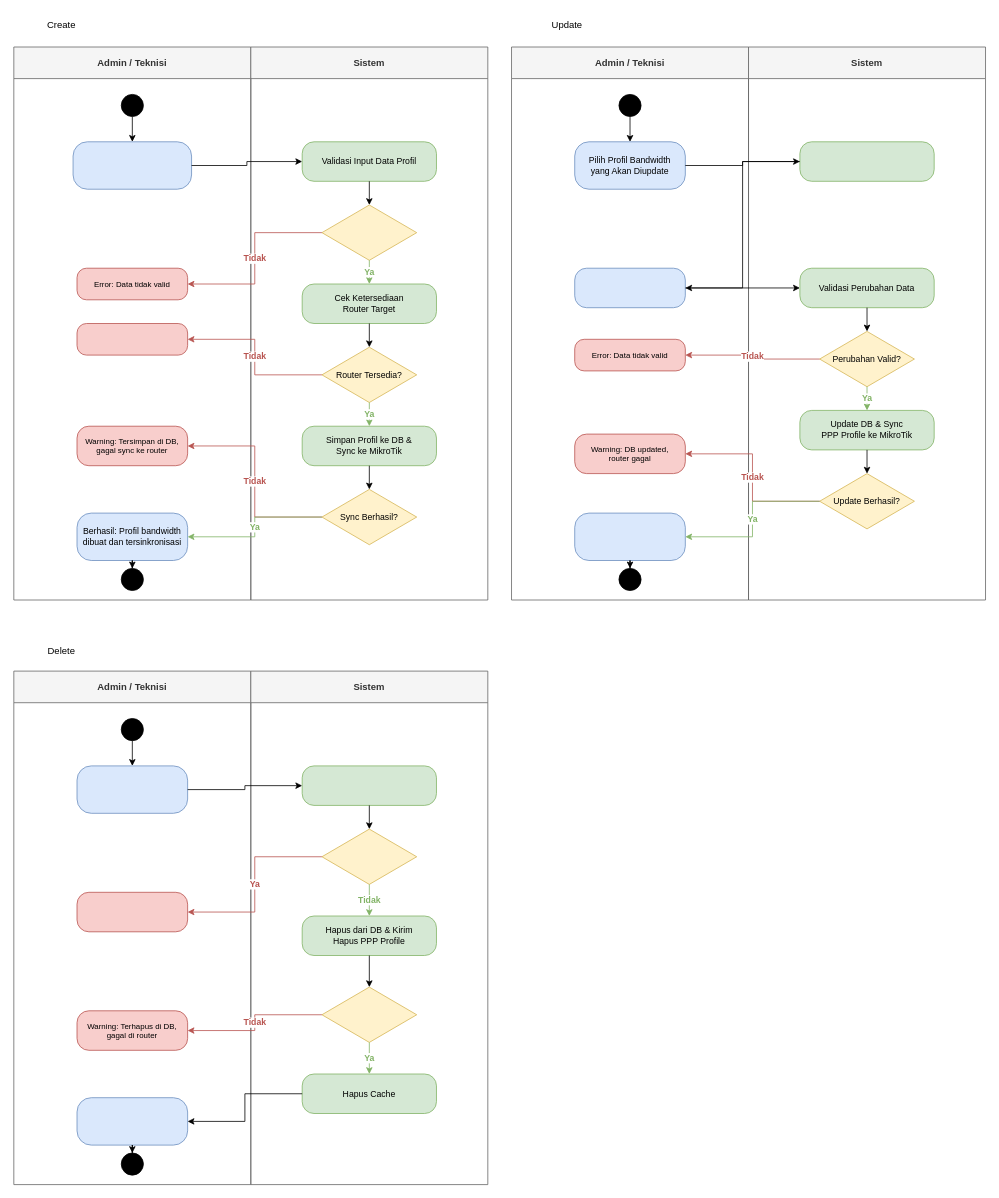
This 999x1198 diagram has some shape labels left out. The shapes that lost their labels are listed below. From the top down, each one's centre as x and y in pixels, then its label:
At (x=132, y=165): "Input Data Profil Bandwidth (Nama, Upload, Download, Harga)".
At (x=866, y=161): "Ambil Data Profil dari DB".
At (x=369, y=232): "Data Valid?".
At (x=629, y=287): "Edit Parameter Bandwidth".
At (x=132, y=339): "Error: Router tidak ditemukan".
At (x=629, y=536): "Berhasil: Profil bandwidth diupdate".
At (x=132, y=789): "Pilih Profil Bandwidth untuk Dihapus".
At (x=368, y=785): "Cek Apakah Profil Sedang Digunakan".
At (x=369, y=856): "Sedang Digunakan?".
At (x=132, y=912): "Gagal: Profil masih aktif digunakan pelanggan".
At (x=369, y=1014): "Hapus di Router Berhasil?".
At (x=132, y=1121): "Berhasil: Profil bandwidth dihapus permanen".
